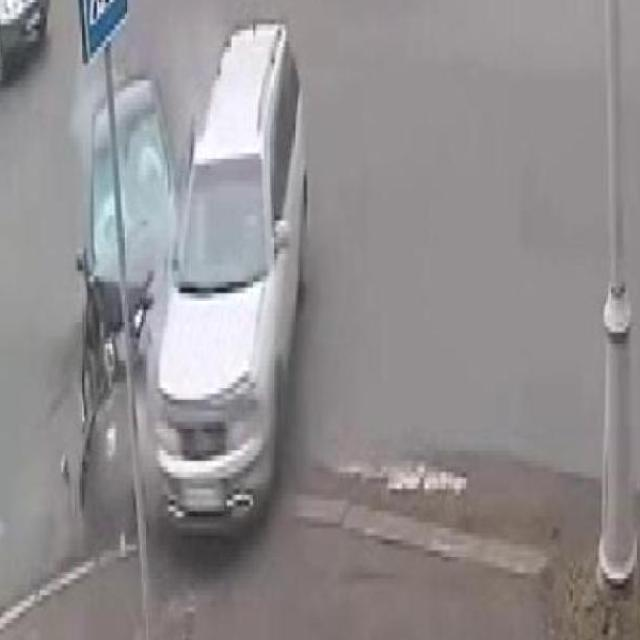accident: (78, 10, 319, 567)
